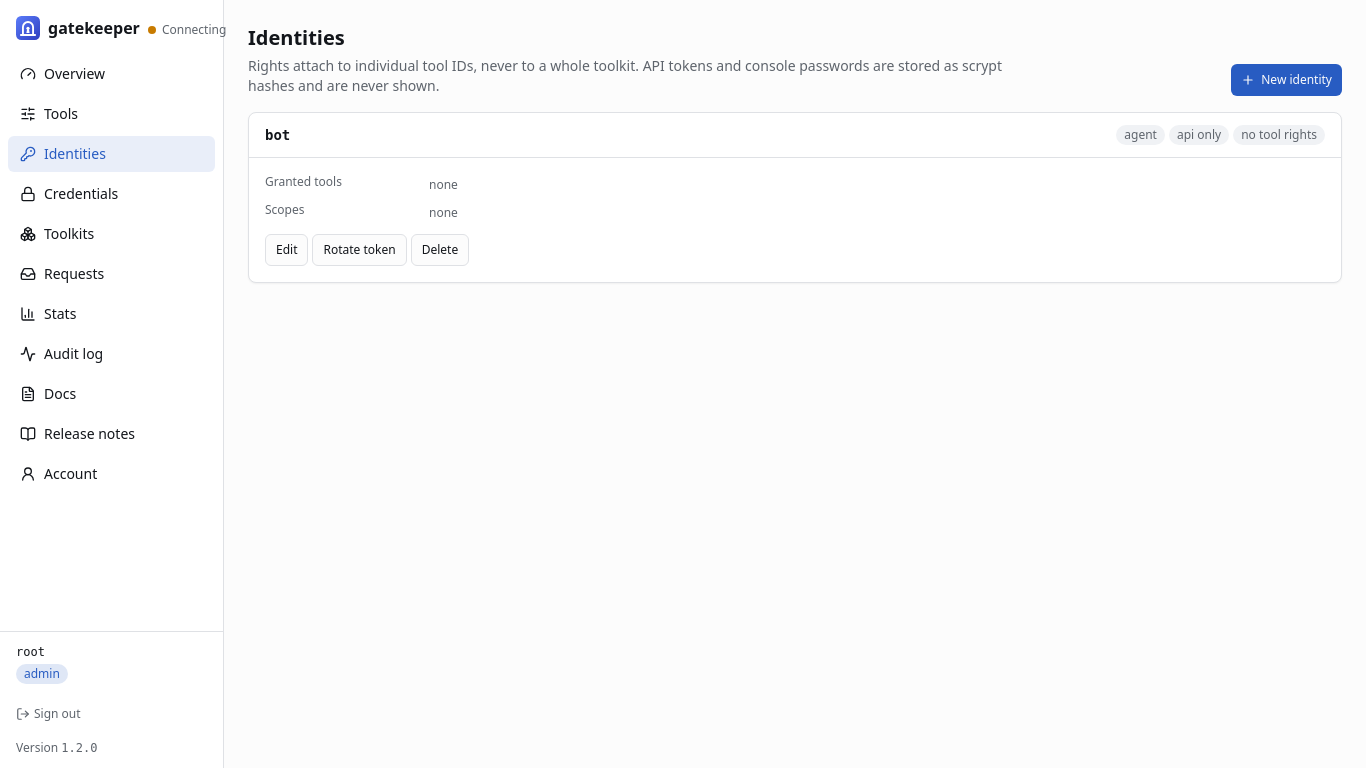
live updates › keeps the revision an identity form was opened on, however often the list is reread
Click the button "Edit".
click(287, 250)  # box [265,234,308,266]
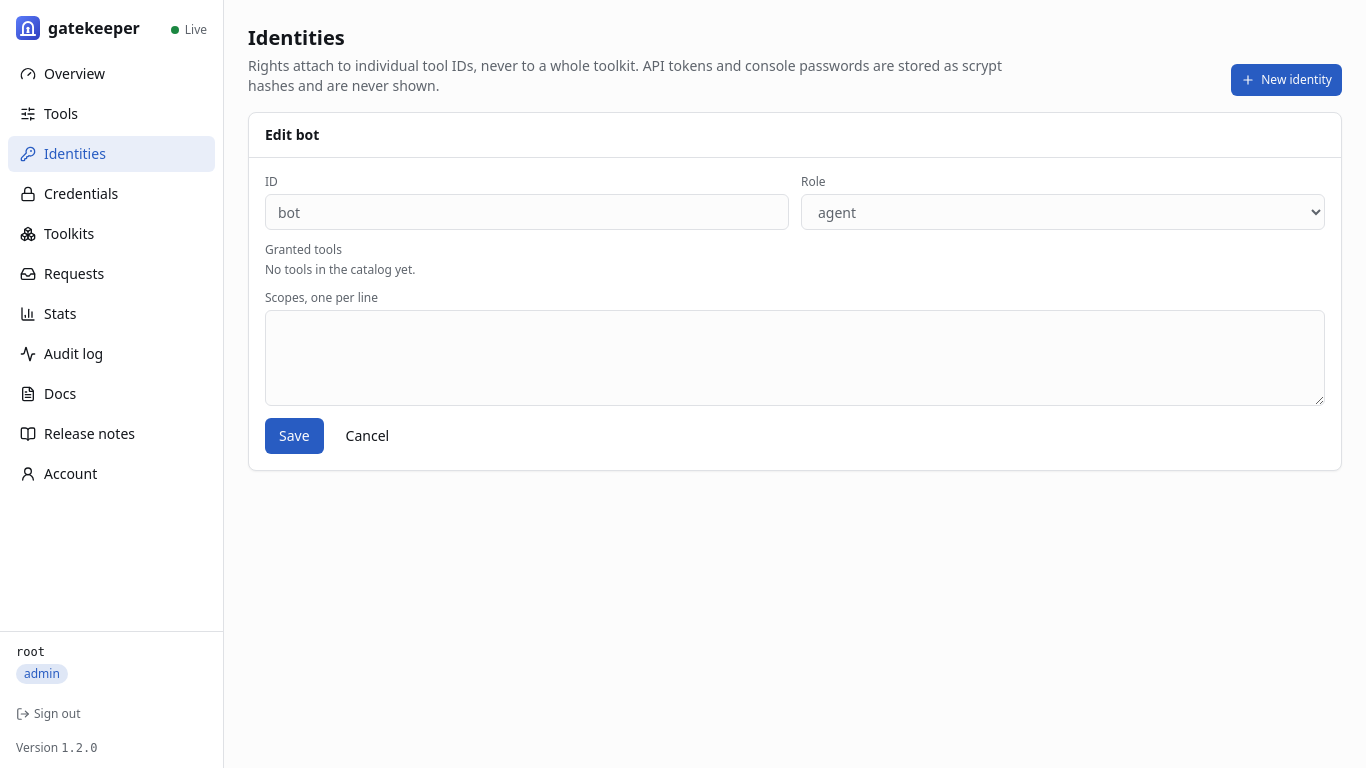
Click the button "Save".
click(294, 436)  # box [265,418,324,454]
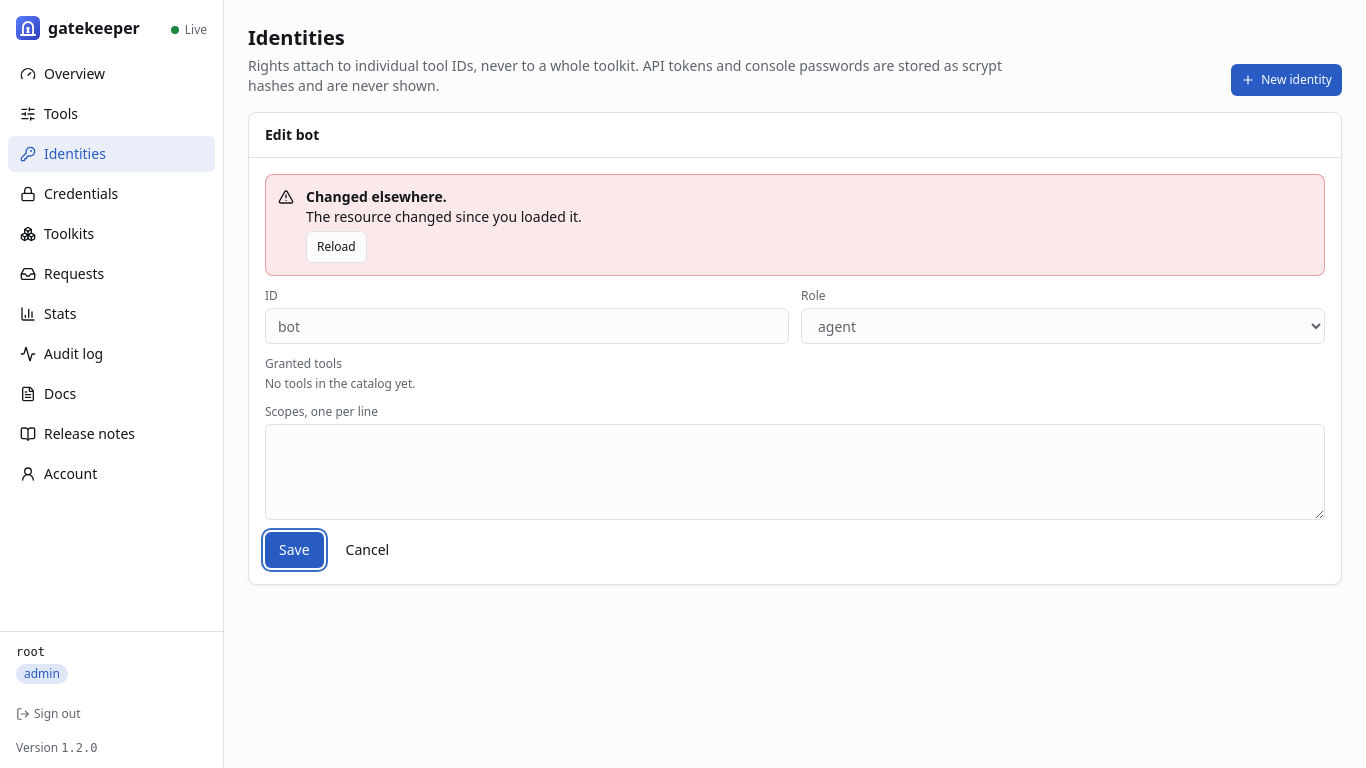
Now the text "Changed elsewhere." is shown, box [306,187,447,206]
